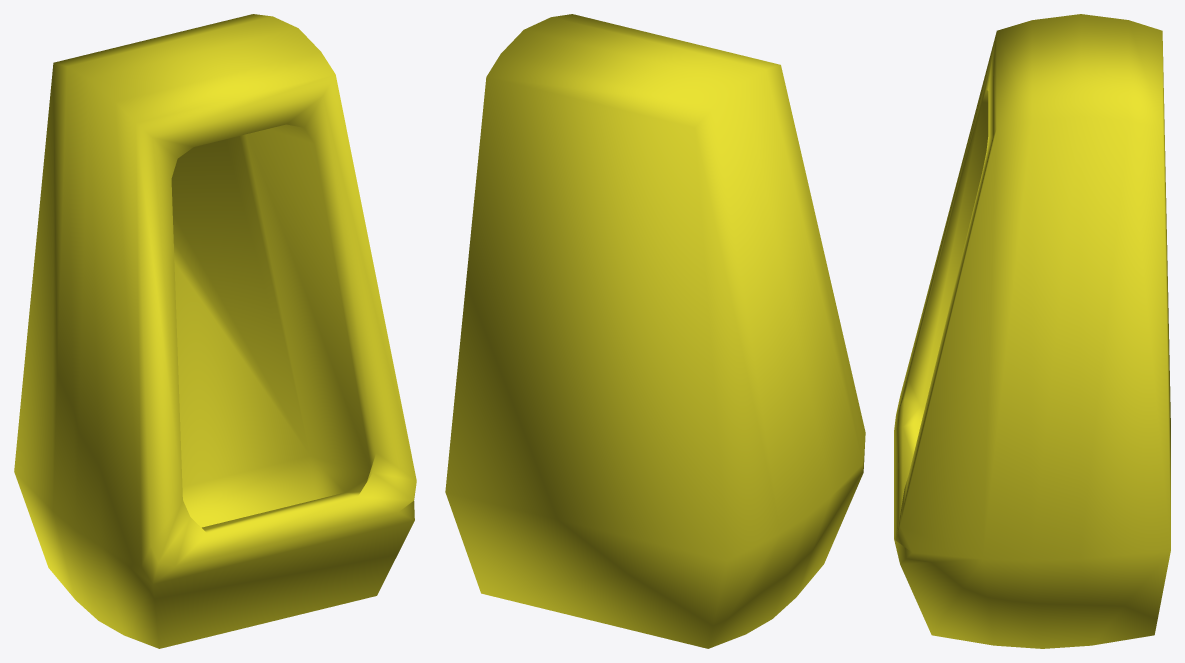
The picture shows the model from 3 angles, left to right: view 1: azimuth 30°, elevation 25°; view 2: azimuth 150°, elevation 25°; view 3: azimuth 270°, elevation 25°; orthographic projection. The views are drawn at different scales.
Parts seen in each view (by area): view 1: Cube.004; view 2: Cube.004; view 3: Cube.004.
Boxes of the visible parts, x1,y1,x2,y2 form: Cube.004: [14, 14, 416, 648]; Cube.004: [445, 14, 865, 648]; Cube.004: [894, 14, 1170, 648].
Bounding box in the file's own units: 63.68 × 112 × 53.18.
